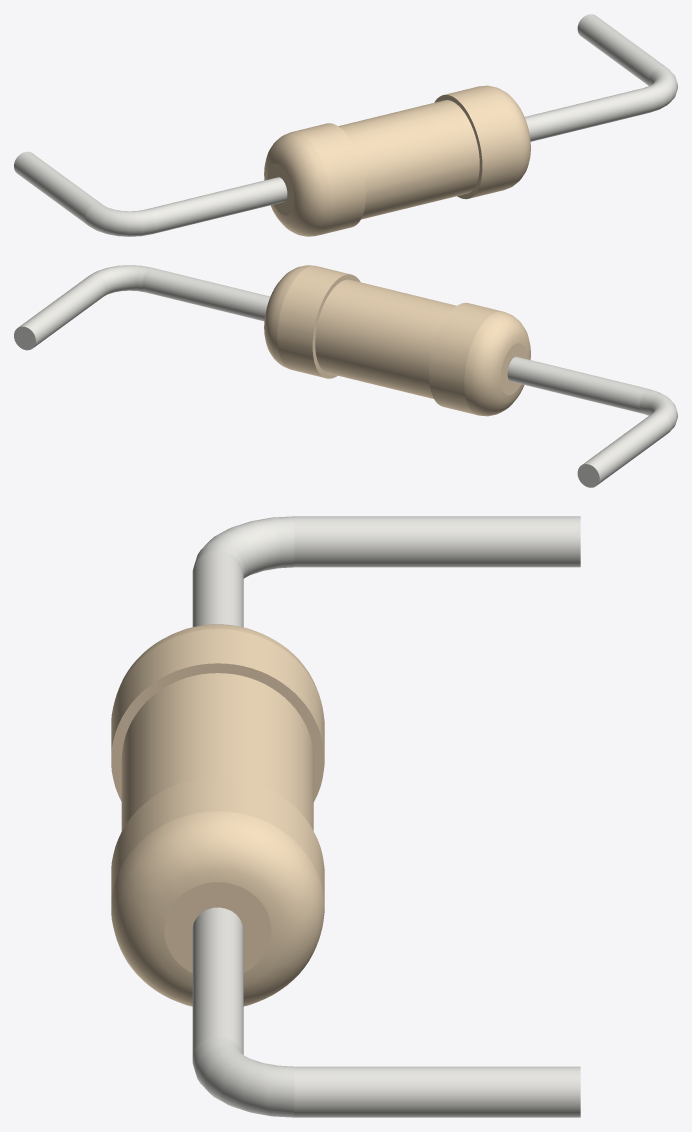
File: R_Axial_DIN0207_L6.3mm_D2.5mm_P15.24mm_Horizontal.glb
The picture shows the model from 3 angles, top to bottom: view 1: azimuth 30°, elevation 25°; view 2: azimuth 150°, elevation 25°; view 3: azimuth 270°, elevation 25°; orthographic projection. The views are drawn at different scales.
Visible parts, largest first — view 1: Shape_IndexedFaceSet.004, Shape_IndexedFaceSet.001, Shape_IndexedFaceSet, Shape_IndexedFaceSet.008, Shape_IndexedFaceSet.005, Shape_IndexedFaceSet.013, Shape_IndexedFaceSet.009, Shape_IndexedFaceSet.015, Shape_IndexedFaceSet.007, Shape_IndexedFaceSet.010, Shape_IndexedFaceSet.014, Shape_IndexedFaceSet.003 (+1 smaller); view 2: Shape_IndexedFaceSet.004, Shape_IndexedFaceSet.001, Shape_IndexedFaceSet, Shape_IndexedFaceSet.008, Shape_IndexedFaceSet.005, Shape_IndexedFaceSet.013, Shape_IndexedFaceSet.015, Shape_IndexedFaceSet.009, Shape_IndexedFaceSet.010, Shape_IndexedFaceSet.014, Shape_IndexedFaceSet.007, Shape_IndexedFaceSet.003 (+3 smaller); view 3: Shape_IndexedFaceSet.010, Shape_IndexedFaceSet.004, Shape_IndexedFaceSet.009, Shape_IndexedFaceSet.015, Shape_IndexedFaceSet, Shape_IndexedFaceSet.008, Shape_IndexedFaceSet.013, Shape_IndexedFaceSet.014, Shape_IndexedFaceSet.012, Shape_IndexedFaceSet.002, Shape_IndexedFaceSet.007, Shape_IndexedFaceSet.005 (+1 smaller).
Part boxes in pixels (x1,y1,x2,y2): Shape_IndexedFaceSet.004: [338, 100, 479, 219]; Shape_IndexedFaceSet.001: [264, 132, 330, 236]; Shape_IndexedFaceSet: [293, 123, 365, 235]; Shape_IndexedFaceSet.008: [444, 86, 517, 198]; Shape_IndexedFaceSet.005: [147, 177, 287, 233]; Shape_IndexedFaceSet.013: [524, 88, 652, 141]; Shape_IndexedFaceSet.009: [14, 151, 102, 225]; Shape_IndexedFaceSet.015: [577, 14, 666, 85]; Shape_IndexedFaceSet.007: [85, 204, 155, 236]; Shape_IndexedFaceSet.010: [481, 85, 530, 188]; Shape_IndexedFaceSet.014: [643, 66, 677, 112]; Shape_IndexedFaceSet.003: [267, 163, 294, 215]; Shape_IndexedFaceSet.004: [315, 279, 456, 398]; Shape_IndexedFaceSet.001: [464, 311, 530, 416]; Shape_IndexedFaceSet: [429, 302, 502, 414]; Shape_IndexedFaceSet.008: [277, 265, 349, 377]; Shape_IndexedFaceSet.005: [507, 356, 647, 413]; Shape_IndexedFaceSet.013: [142, 267, 269, 321]; Shape_IndexedFaceSet.015: [18, 274, 107, 347]; Shape_IndexedFaceSet.009: [582, 411, 670, 484]; Shape_IndexedFaceSet.010: [264, 265, 313, 368]; Shape_IndexedFaceSet.014: [91, 265, 150, 295]; Shape_IndexedFaceSet.007: [639, 389, 677, 431]; Shape_IndexedFaceSet.003: [500, 343, 527, 395]; Shape_IndexedFaceSet.010: [111, 811, 324, 1006]; Shape_IndexedFaceSet.004: [121, 673, 313, 831]; Shape_IndexedFaceSet.009: [294, 516, 580, 567]; Shape_IndexedFaceSet.015: [294, 1066, 580, 1117]; Shape_IndexedFaceSet: [111, 629, 324, 754]; Shape_IndexedFaceSet.008: [111, 777, 324, 902]; Shape_IndexedFaceSet.013: [192, 907, 243, 1054]; Shape_IndexedFaceSet.014: [192, 1036, 294, 1117]; Shape_IndexedFaceSet.012: [164, 882, 271, 972]; Shape_IndexedFaceSet.002: [111, 663, 324, 801]; Shape_IndexedFaceSet.007: [194, 516, 294, 578]; Shape_IndexedFaceSet.005: [192, 551, 243, 627].
Size of the model in its own units: 6.23 by 0.984 by 2.17.
